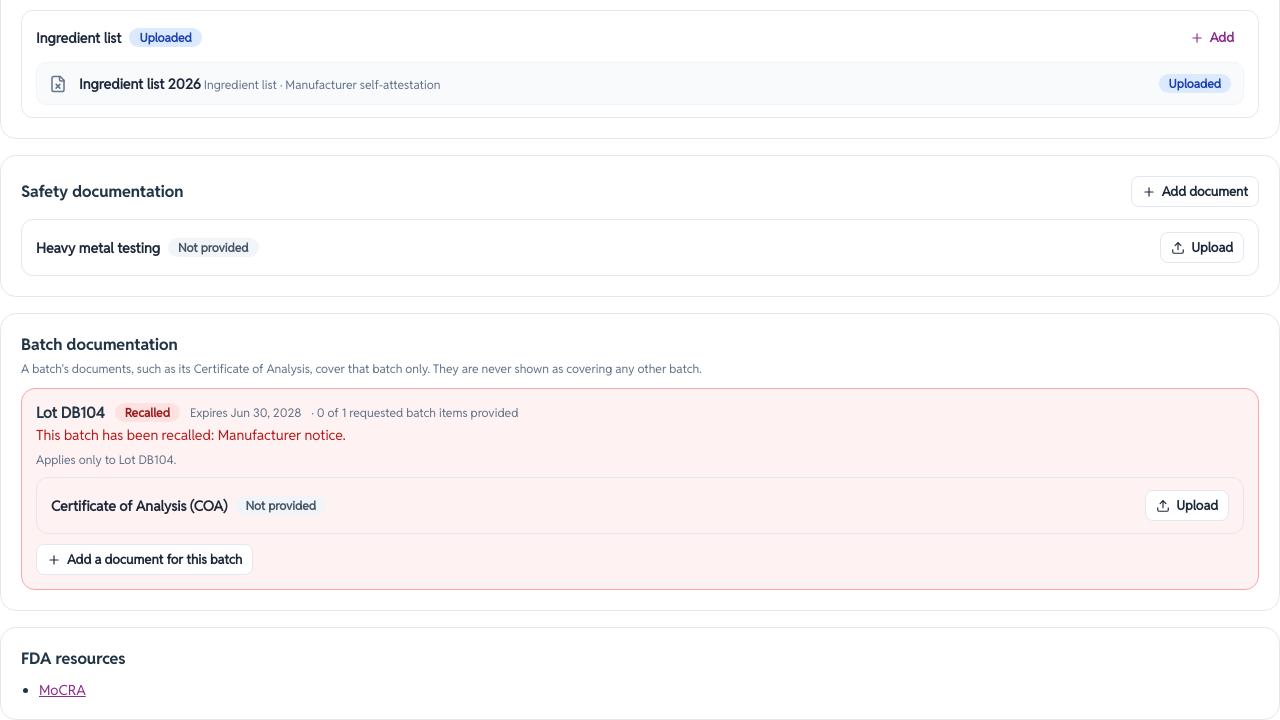
CompliancePassport › opens the upload form for a missing batch item with its batch
This screenshot has width=1280, height=720.
(page scrolled)
What coordinates should you click on to do the following:
click the button with aria-label "Upload Certificate of Analysis (COA)"
I would click on:
 (1187, 506)
Its box is [1145, 490, 1229, 521].
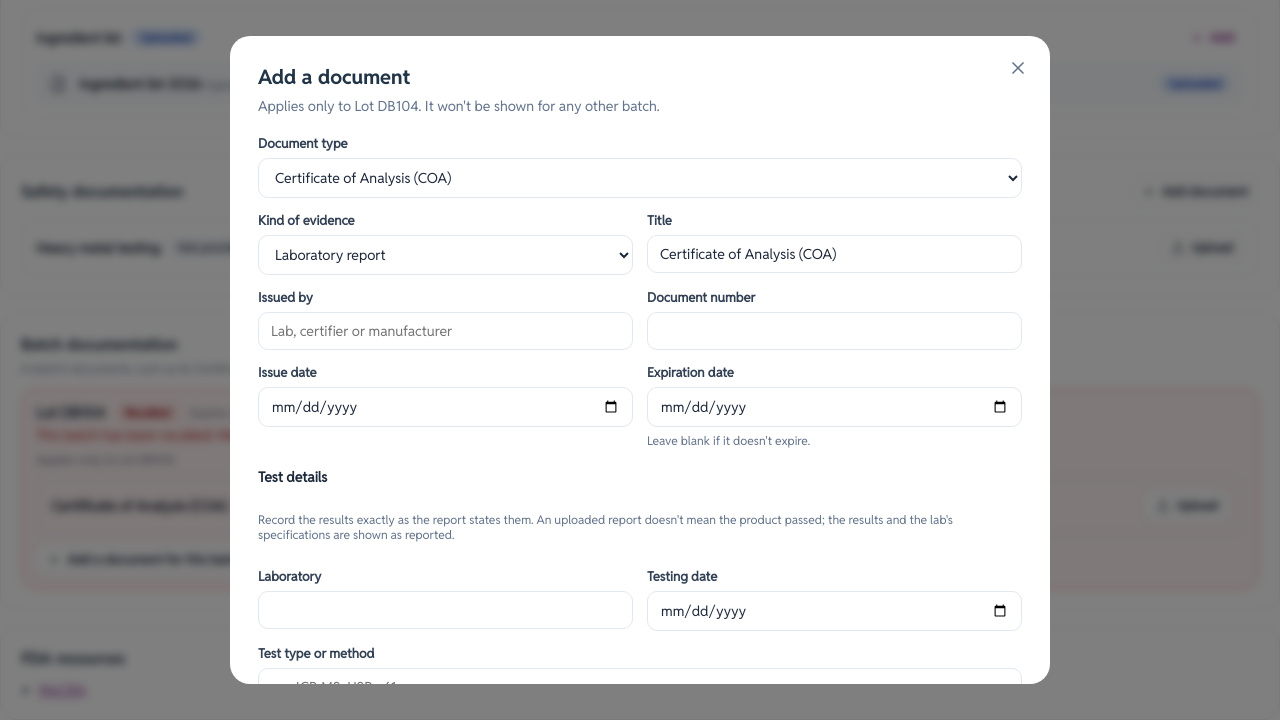
Now the text "Applies only to Lot DB104" is shown, box [258, 97, 660, 115]
Now the dropdown labelled "Document type" shows "Certificate of Analysis (COA)", box [258, 158, 1022, 198]
